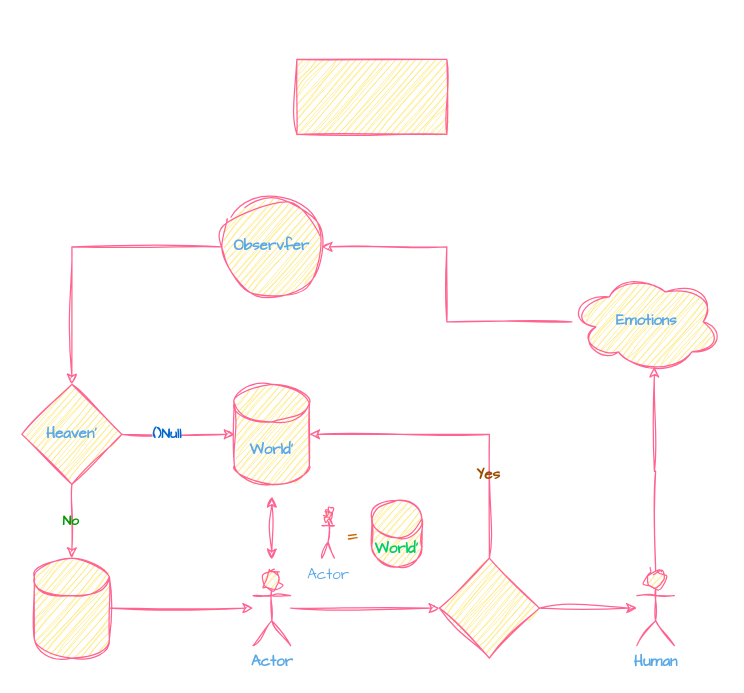
This 744x693 diagram has some shape labels left out. Here are the shapes that lost their labels. From the top down, the centre of each, then its label:
At (x=371, y=96): "()DONOTHING".
At (x=71, y=607): "Hell'".
At (x=488, y=607): "Nothing".
